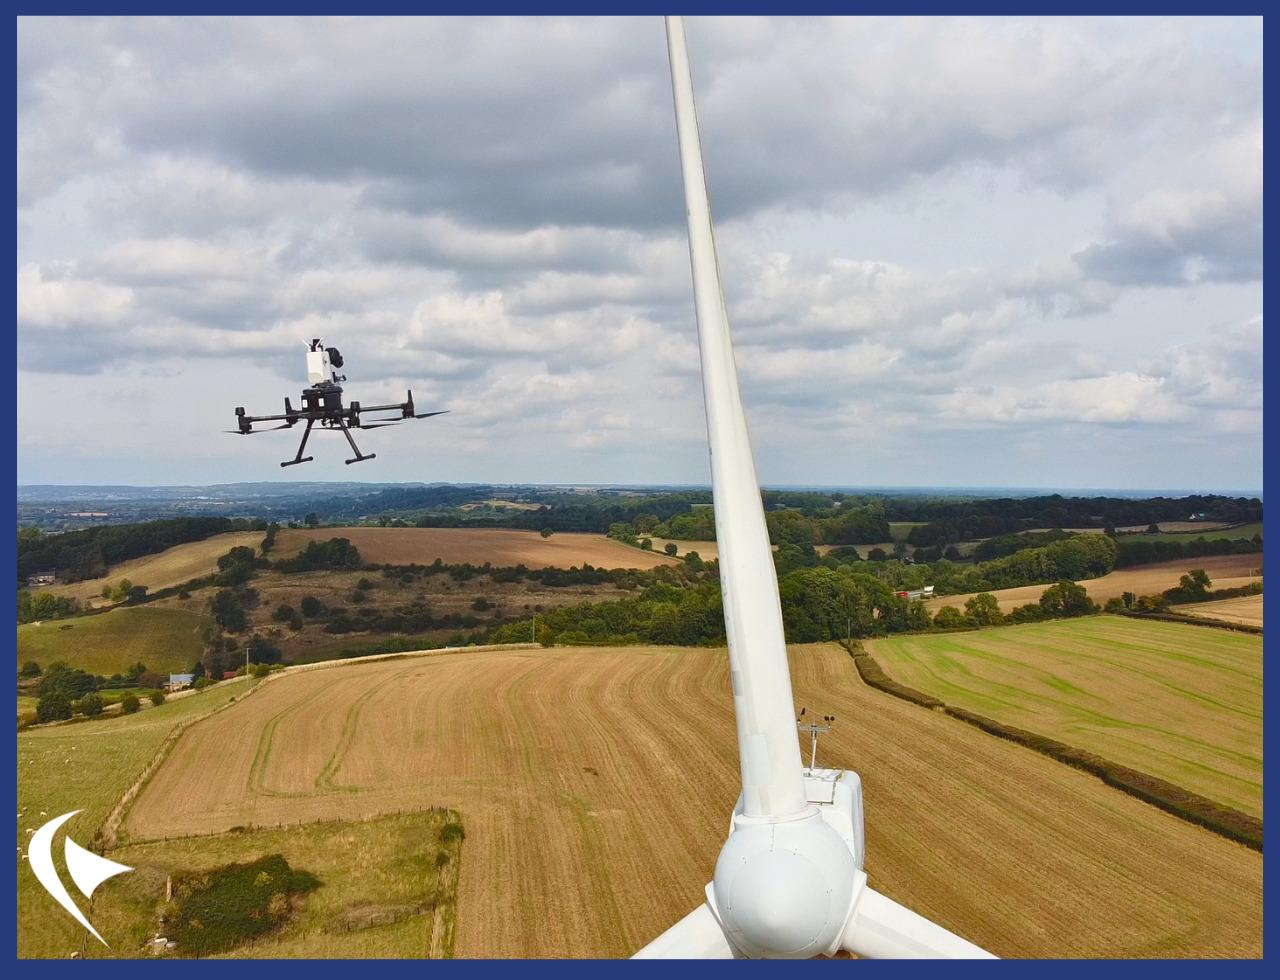drone: (215, 334, 454, 466)
